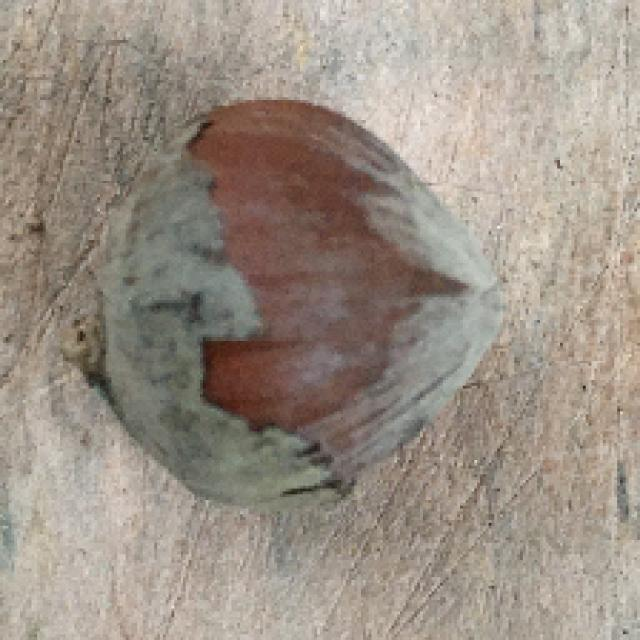damagedHazelnut: (72, 95, 504, 510)
